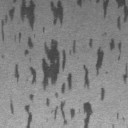red iron: (2, 0, 128, 128), (103, 0, 128, 30), (50, 0, 63, 26), (77, 0, 82, 6), (116, 112, 119, 120)
